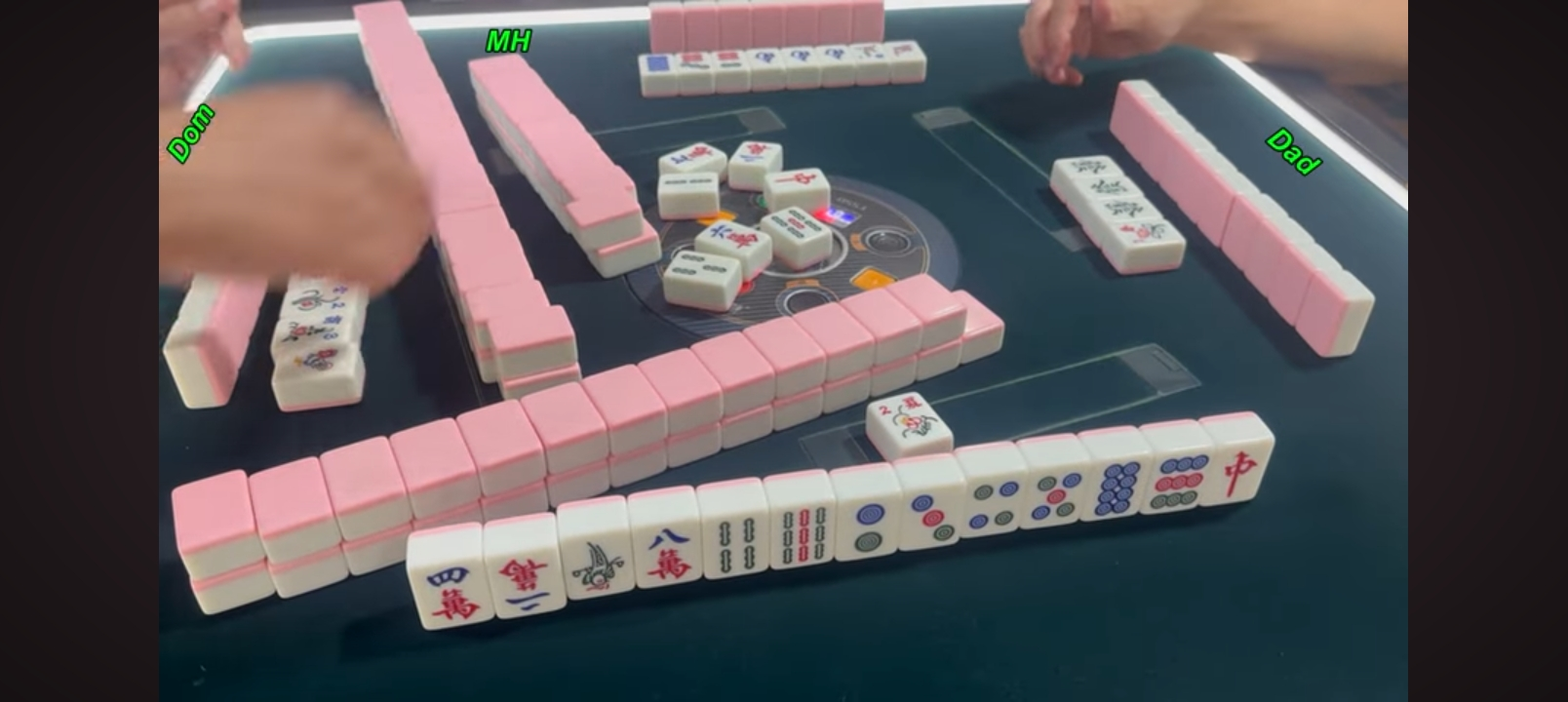TILE: (408, 561, 494, 628), (561, 533, 638, 601), (487, 552, 568, 614), (868, 391, 957, 447), (631, 524, 701, 588), (837, 496, 903, 561), (768, 503, 835, 566), (701, 516, 770, 577), (1147, 449, 1212, 512), (901, 488, 967, 550), (963, 475, 1026, 537), (1026, 467, 1090, 527), (1211, 445, 1274, 503), (1088, 457, 1148, 517)
